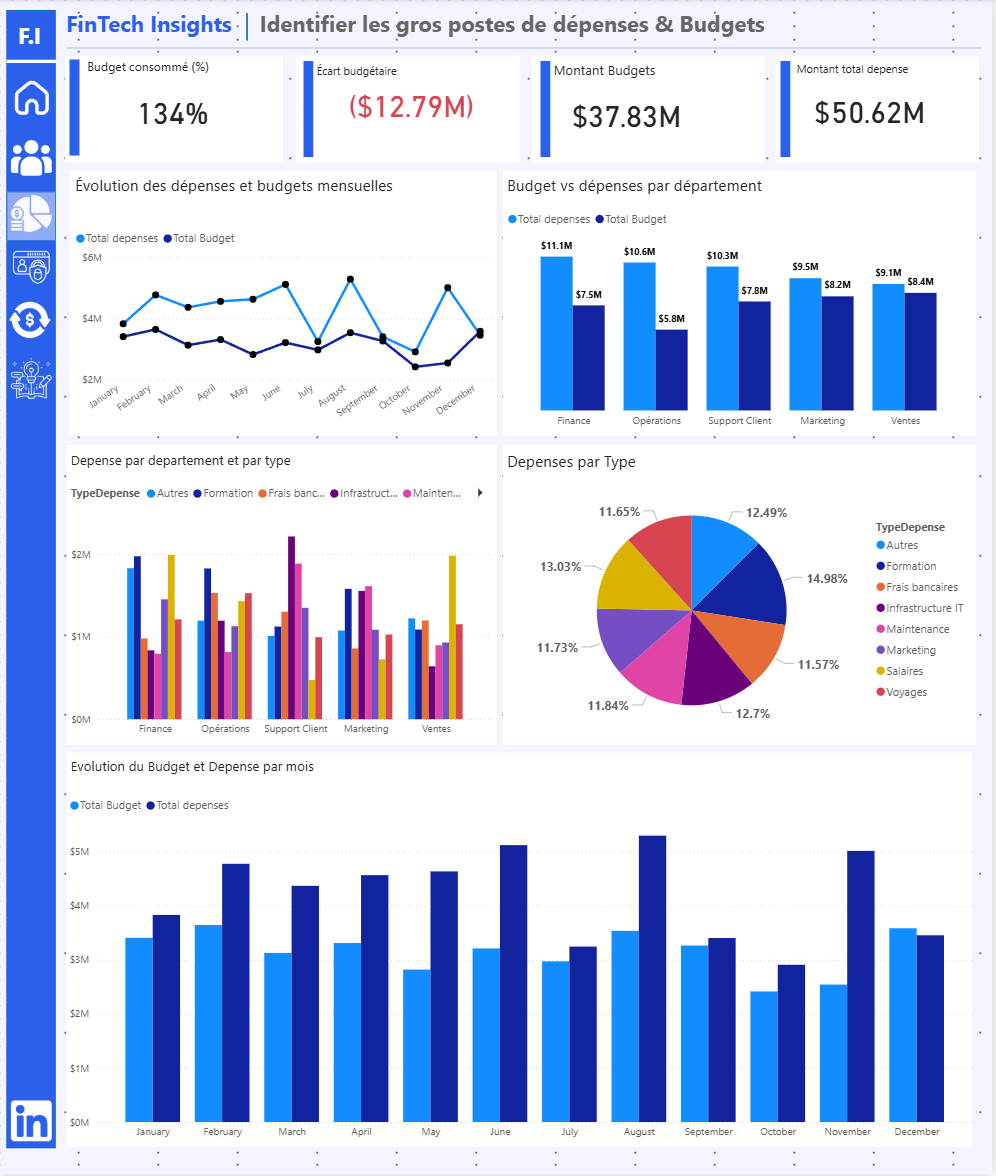

The page's visual inventory and layout, read from the dashboard file:
{"tool":"powerbi","page":{"name":"Budgets & Depenses","canvas":[1200,1420],"ordinal":2},"visuals":[{"type":"shape","box":[8.9,13.9,59.6,1374.4],"z":0,"group":"g2"},{"type":"shape","box":[81.2,53.3,1105,12],"z":0,"group":"g1"},{"type":"shape","box":[80.7,539,519.3,362.1],"z":0},{"type":"group","id":"g1","title":"Header","box":[75.8,7,1110.4,58.3],"z":1000},{"type":"textbox","box":[75.8,7,230,50],"z":1000,"group":"g1"},{"type":"image","box":[9.3,1325,59.6,59.6],"z":1000,"group":"g2"},{"type":"shape","box":[292.5,17,12.2,33.3],"z":2000,"group":"g1"},{"type":"shape","box":[9.6,60.8,59.7,29.9],"z":2000,"group":"g2"},{"type":"shape","box":[80.6,69.9,263.3,127.9],"z":2000},{"type":"textbox","box":[309.8,7,817.2,46.6],"z":3000,"group":"g1"},{"type":"shape","box":[85.1,74.9,12,116],"z":3000},{"type":"image","box":[9.6,162.6,59.7,59.7],"z":3000,"group":"g2"},{"type":"textbox","box":[101.2,67,158.1,39.2],"z":4000},{"type":"image","box":[9.6,229.3,59.7,59.7],"z":4000,"group":"g2"},{"type":"card","fields":{"Values":["KPI.Budget consommé (%)"]},"box":[128.3,110.7,161.4,51.7],"z":5000},{"type":"image","box":[9.6,295.5,59.7,59.7],"z":5000,"group":"g2"},{"type":"image","box":[9.6,428.8,59.7,59.7],"z":6000,"group":"g2"},{"type":"shape","box":[358.2,70.6,269.7,127.9],"z":8000},{"type":"shape","box":[8.7,232.5,59.6,59.6],"z":8000,"group":"g2"},{"type":"shape","box":[367.5,76.3,11.8,116.1],"z":9000},{"type":"image","box":[8.6,90.7,60.8,59.7],"z":9000,"group":"g2"},{"type":"textbox","box":[18.2,21.3,50.1,48],"z":10000,"group":"g2"},{"type":"textbox","box":[378.3,72,173,34.4],"z":10000},{"type":"image","box":[7.5,358.4,59.7,59.7],"z":10500,"group":"g2"},{"type":"card","fields":{"Values":["KPI.Écart budgétaire"]},"box":[414.3,101.9,165.7,51.9],"z":11000},{"type":"shape","box":[642.3,70.9,281.6,127.9],"z":14000},{"type":"shape","box":[653.4,76.3,11.8,116.1],"z":15000},{"type":"textbox","box":[664.1,70.9,158,34.4],"z":16000},{"type":"shape","box":[938.1,70.2,245,127.9],"z":19000},{"type":"shape","box":[944.6,76.3,11.8,116.1],"z":20000},{"type":"textbox","box":[958.6,70.9,159,35.5],"z":21000},{"type":"card","fields":{"Values":["KPI.Total depenses"]},"box":[975.3,108.4,153.1,51.7],"z":22000},{"type":"card","fields":{"Values":["KPI.Total Budget"]},"box":[679.4,107,156.2,65.2],"z":25000},{"type":"shape","box":[84.9,208,515.7,320],"z":26000},{"type":"shape","box":[609.2,208,571.1,320],"z":27000},{"type":"textbox","box":[86.9,207.9,407.6,44.5],"z":28000},{"type":"lineChart","fields":{"Category":["Calendrier.Date.Variation.Date Hierarchy.Month"],"Y":["KPI.Total depenses","KPI.Total Budget"]},"box":[86.2,269.5,514.5,258.5],"z":29000},{"type":"textbox","box":[609.2,208,318.8,44.3],"z":30000},{"type":"shape","box":[609.3,539,571,362.1],"z":31000},{"type":"textbox","box":[609.3,541,175.9,44.5],"z":32000},{"type":"pieChart","fields":{"Series":["type_depense.TypeDepense"],"Y":["KPI.Total depenses"]},"box":[609.3,578.3,571,322.8],"z":33000},{"type":"shape","box":[81.7,911.3,1093.4,475.9],"z":34000},{"type":"clusteredColumnChart","fields":{"Category":["Calendrier.Date.Variation.Date Hierarchy.Month"],"Y":["KPI.Total Budget","KPI.Total depenses"]},"box":[79.7,953.8,1100.7,432.4],"z":35000},{"type":"textbox","box":[80.7,911.3,315.5,33.1],"z":36000},{"type":"clusteredColumnChart","fields":{"Category":["departements.Departement"],"Y":["KPI.Total depenses"],"Series":["type_depense.TypeDepense"]},"box":[80.7,578.3,519.3,322.8],"z":37000},{"type":"textbox","box":[80.7,541,315.5,33.1],"z":38000},{"type":"clusteredColumnChart","fields":{"Category":["departements.Departement"],"Y":["KPI.Total depenses","KPI.Total Budget"]},"box":[609.3,246.2,571,281.4],"z":39000},{"type":"group","id":"g2","title":"Navigation","box":[7.5,13.9,61.9,1374.4],"z":40000}]}

Visuals, with their boxes in screenshot pixels (x1, y1, x2, y2), scaled from the page's 1200x1420 canvas onto the 996x1176 screenshot:
shape: pyautogui.locateOnScreen(7, 12, 57, 1150)
shape: pyautogui.locateOnScreen(67, 44, 985, 54)
shape: pyautogui.locateOnScreen(67, 446, 498, 746)
"Header" group: pyautogui.locateOnScreen(63, 6, 985, 54)
textbox: pyautogui.locateOnScreen(63, 6, 254, 47)
image: pyautogui.locateOnScreen(8, 1097, 57, 1147)
shape: pyautogui.locateOnScreen(243, 14, 253, 42)
shape: pyautogui.locateOnScreen(8, 50, 58, 75)
shape: pyautogui.locateOnScreen(67, 58, 285, 164)
textbox: pyautogui.locateOnScreen(257, 6, 935, 44)
shape: pyautogui.locateOnScreen(71, 62, 81, 158)
image: pyautogui.locateOnScreen(8, 135, 58, 184)
textbox: pyautogui.locateOnScreen(84, 55, 215, 88)
image: pyautogui.locateOnScreen(8, 190, 58, 239)
card - KPI.Budget consommé (%): pyautogui.locateOnScreen(106, 92, 240, 134)
image: pyautogui.locateOnScreen(8, 245, 58, 294)
image: pyautogui.locateOnScreen(8, 355, 58, 405)
shape: pyautogui.locateOnScreen(297, 58, 521, 164)
shape: pyautogui.locateOnScreen(7, 193, 57, 242)
shape: pyautogui.locateOnScreen(305, 63, 315, 159)
image: pyautogui.locateOnScreen(7, 75, 58, 125)
textbox: pyautogui.locateOnScreen(15, 18, 57, 57)
textbox: pyautogui.locateOnScreen(314, 60, 458, 88)
image: pyautogui.locateOnScreen(6, 297, 56, 346)
card - KPI.Écart budgétaire: pyautogui.locateOnScreen(344, 84, 481, 127)
shape: pyautogui.locateOnScreen(533, 59, 767, 165)
shape: pyautogui.locateOnScreen(542, 63, 552, 159)
textbox: pyautogui.locateOnScreen(551, 59, 682, 87)
shape: pyautogui.locateOnScreen(779, 58, 982, 164)
shape: pyautogui.locateOnScreen(784, 63, 794, 159)
textbox: pyautogui.locateOnScreen(796, 59, 928, 88)
card - KPI.Total depenses: pyautogui.locateOnScreen(809, 90, 937, 133)
card - KPI.Total Budget: pyautogui.locateOnScreen(564, 89, 694, 143)
shape: pyautogui.locateOnScreen(70, 172, 498, 437)
shape: pyautogui.locateOnScreen(506, 172, 980, 437)
textbox: pyautogui.locateOnScreen(72, 172, 410, 209)
lineChart - Calendrier.Date.Variation.Date Hierarchy.Month x KPI.Total depenses: pyautogui.locateOnScreen(72, 223, 499, 437)
textbox: pyautogui.locateOnScreen(506, 172, 770, 209)
shape: pyautogui.locateOnScreen(506, 446, 980, 746)
textbox: pyautogui.locateOnScreen(506, 448, 652, 485)
pieChart - type_depense.TypeDepense x KPI.Total depenses: pyautogui.locateOnScreen(506, 479, 980, 746)
shape: pyautogui.locateOnScreen(68, 755, 975, 1149)
clusteredColumnChart - Calendrier.Date.Variation.Date Hierarchy.Month x KPI.Total Budget: pyautogui.locateOnScreen(66, 790, 980, 1148)
textbox: pyautogui.locateOnScreen(67, 755, 329, 782)
clusteredColumnChart - departements.Departement x KPI.Total depenses: pyautogui.locateOnScreen(67, 479, 498, 746)
textbox: pyautogui.locateOnScreen(67, 448, 329, 475)
clusteredColumnChart - departements.Departement x KPI.Total depenses: pyautogui.locateOnScreen(506, 204, 980, 437)
"Navigation" group: pyautogui.locateOnScreen(6, 12, 58, 1150)
